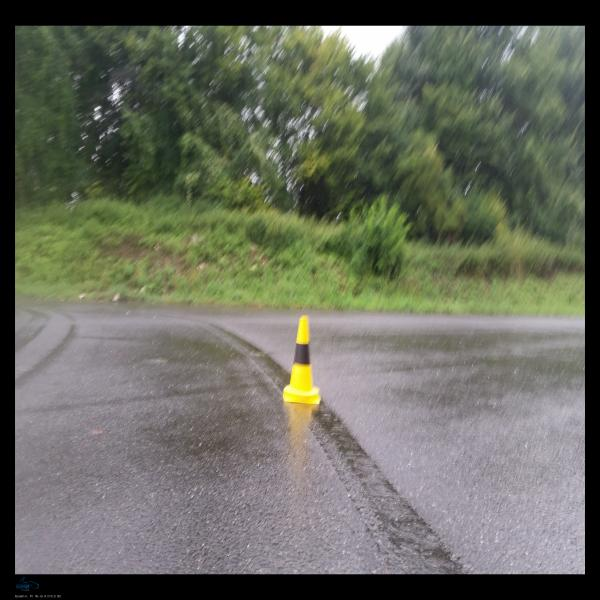yellow_cone: (283, 315, 320, 404)
